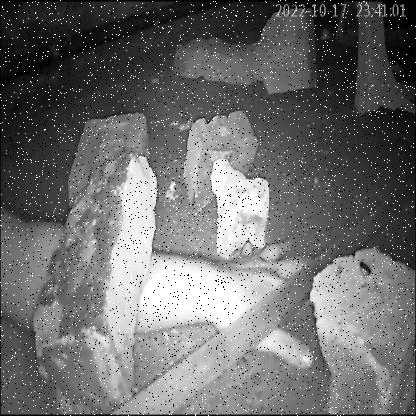hand: (122, 192, 346, 384)
